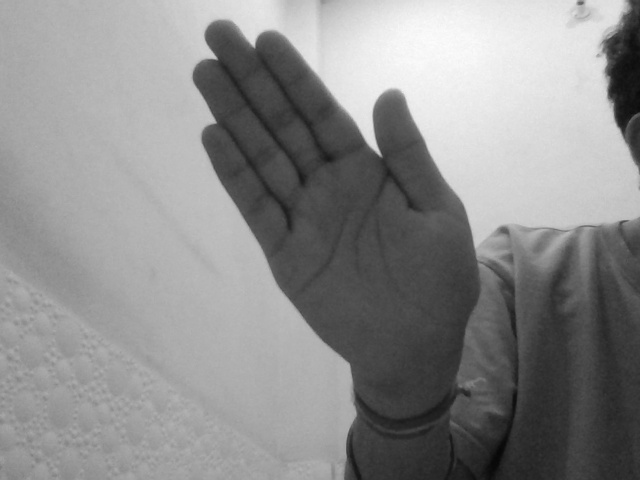Hello: (189, 15, 483, 380)
